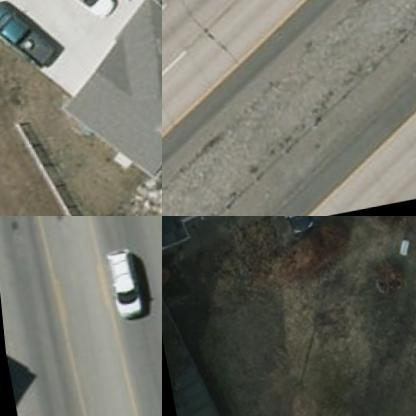car: (104, 248, 141, 323), (45, 0, 120, 31), (272, 216, 313, 239)
pickup: (0, 0, 62, 82)
